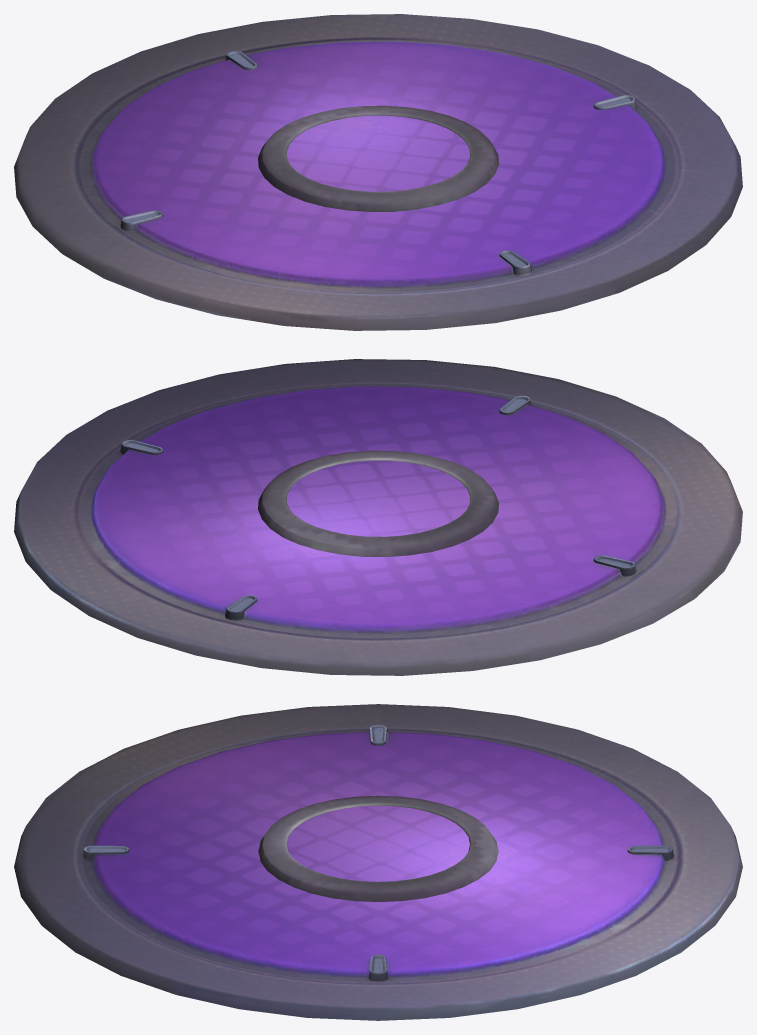
File: pref_TPC_v2_NeutralScoreArea03_purple_static_lv1.fbx
3 renders of one model, top to bottom at view 1: azimuth 30°, elevation 25°; view 2: azimuth 150°, elevation 25°; view 3: azimuth 270°, elevation 25°, orthographic.
Visible parts, largest first — view 1: sm_prop_platform06a_lv1, sm_prop_platform06b_lv1; view 2: sm_prop_platform06a_lv1, sm_prop_platform06b_lv1; view 3: sm_prop_platform06a_lv1, sm_prop_platform06b_lv1.
Boxes of the visible parts, x1,y1,x2,y2 form: sm_prop_platform06a_lv1: [14, 14, 742, 330]; sm_prop_platform06b_lv1: [258, 105, 498, 211]; sm_prop_platform06a_lv1: [14, 359, 742, 675]; sm_prop_platform06b_lv1: [258, 450, 498, 556]; sm_prop_platform06a_lv1: [14, 704, 742, 1020]; sm_prop_platform06b_lv1: [258, 795, 498, 901].
Bounding box in the file's own units: 7.46 × 0.2872 × 7.46.
